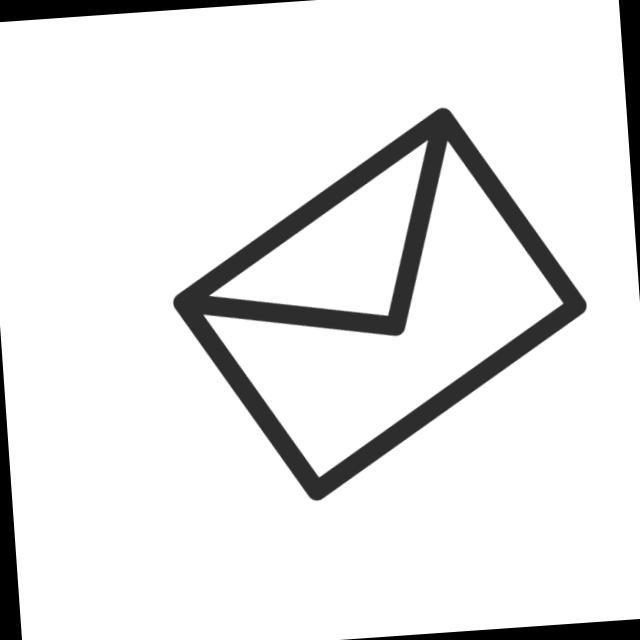letter: (152, 94, 607, 519)
